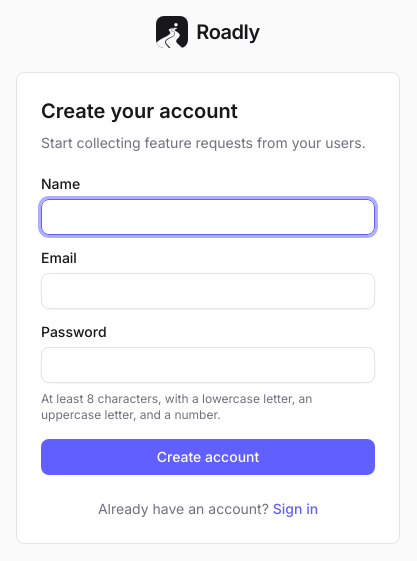
it: creates the account with trimmed details and lands on onboarding
The image size is (417, 561).
Type "  Ada Lovelace " into the field labelled "Name".
click(208, 217); type("  Ada Lovelace ")  # box [41,199,375,235]
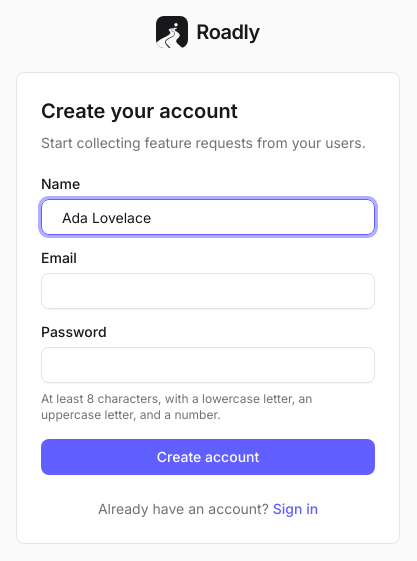
Type " ada@example.com " into the field labelled "Email".
click(208, 291); type(" ada@example.com ")  # box [41,273,375,309]
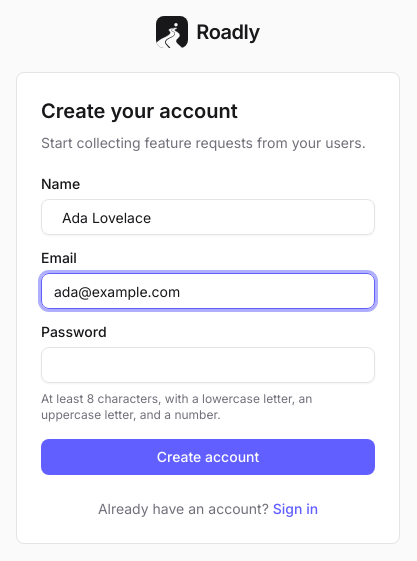
Type "Analytical1" into the password field labelled "Password".
click(208, 365); type("Analytical1")  # box [41,347,375,383]
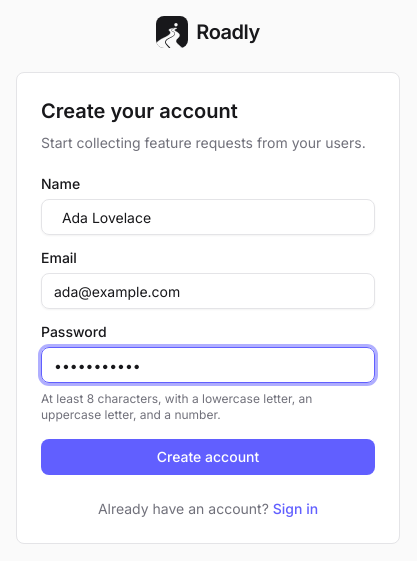
Click the button "Create account".
click(208, 457)  # box [41,439,375,475]
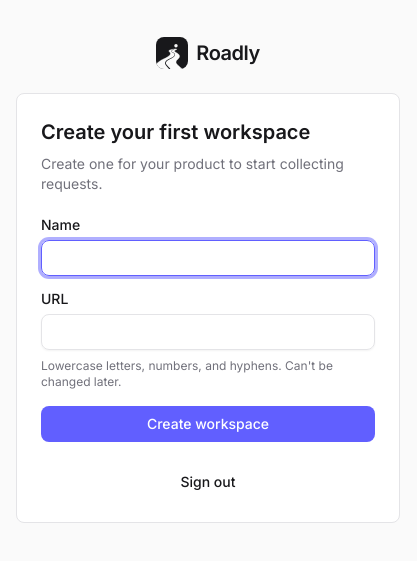
expect the heading "Create your first workspace" is shown: met, box [41,120,310,144]
